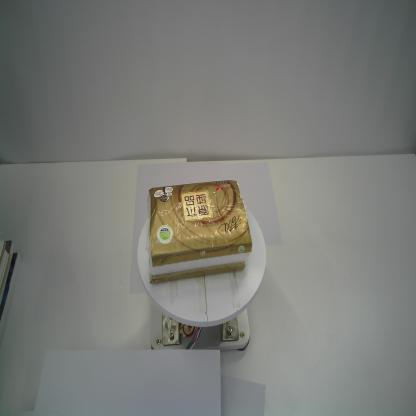Tissue: (146, 180, 253, 284)
